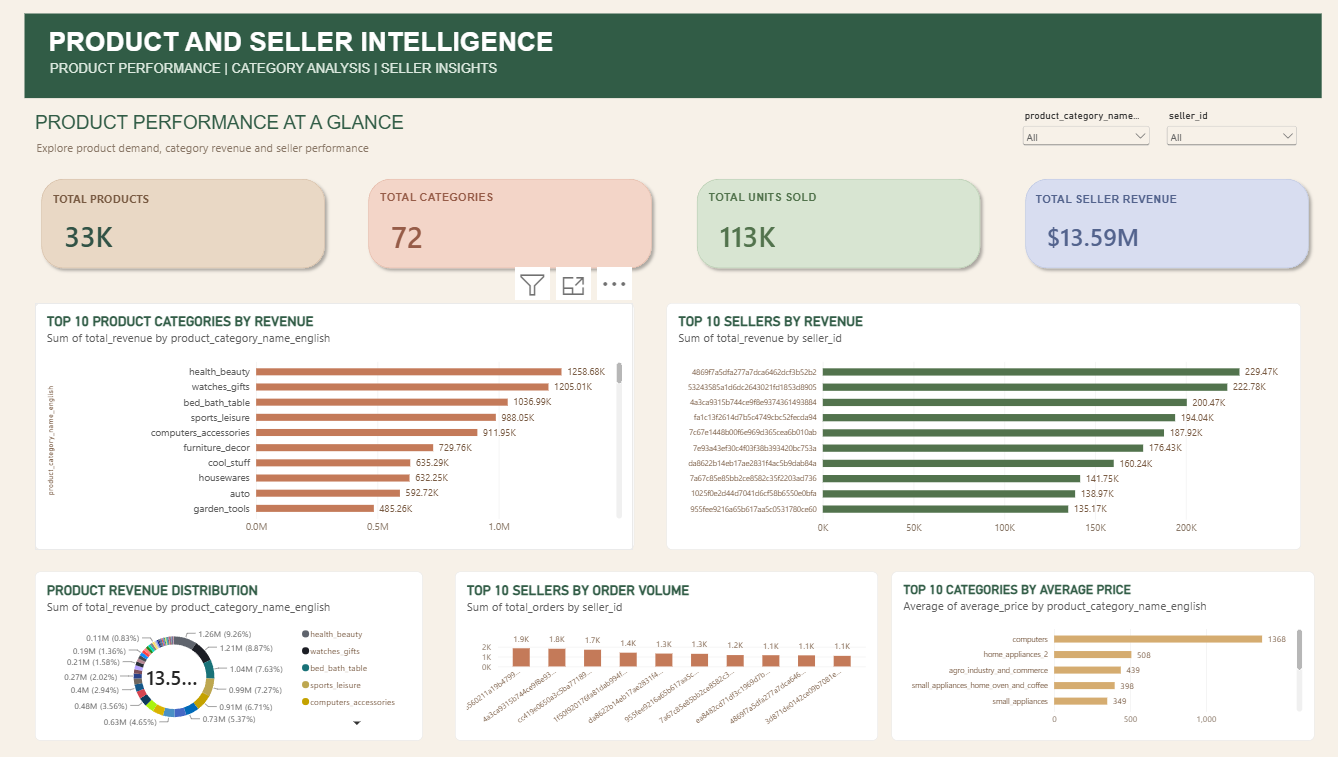

This screenshot's page, from the dashboard's own definition file:
{"tool":"powerbi","page":{"name":"PRODUCT & SELLER INTELLIGENCE","canvas":[1920,1080],"ordinal":2},"visuals":[{"type":"shape","box":[40,20,1840,120],"z":0},{"type":"textbox","box":[75,38,1100,48],"z":1000},{"type":"textbox","box":[77,88,1000,28],"z":2000},{"type":"textbox","box":[55,160,850,35],"z":3000},{"type":"textbox","box":[57,198,900,25],"z":4000},{"type":"shape","box":[55,245,420,145],"z":5000},{"type":"textbox","box":[80,270,350,25],"z":6000},{"type":"cardVisual","fields":{"Data":["gold_customer_geography.Total Products"]},"box":[80,305,350,60],"z":7000},{"type":"shape","box":[520,245,420,145],"z":8000},{"type":"textbox","box":[545,270,350,25],"z":9000},{"type":"cardVisual","fields":{"Data":["gold_product_summary.Total Categories"]},"box":[545,305,350,60],"z":10000},{"type":"shape","box":[985,245,420,145],"z":11000},{"type":"textbox","box":[1010,270,350,25],"z":12000},{"type":"cardVisual","fields":{"Data":["gold_customer_geography.Total Units Sold"]},"box":[1010,305,350,60],"z":13000},{"type":"shape","box":[1450,245,420,145],"z":14000},{"type":"textbox","box":[1474.5,271.6,344.9,25.9],"z":15000},{"type":"cardVisual","fields":{"Data":["gold_customer_geography.Total Seller Revenue"]},"box":[1475,305,350,60],"z":16000},{"type":"clusteredBarChart","title":"TOP 10 PRODUCT CATEGORIES BY REVENUE","fields":{"Category":["gold_product_summary.product_category_name_english"],"Y":["Sum(gold_product_summary.total_revenue)"]},"box":[55,430,850,350],"z":17000},{"type":"clusteredBarChart","title":"TOP 10 SELLERS BY REVENUE","fields":{"Category":["gold_seller_summary.seller_id"],"Y":["Sum(gold_seller_summary.total_revenue)"]},"box":[950,430,900,350],"z":18000},{"type":"donutChart","title":"PRODUCT REVENUE DISTRIBUTION","fields":{"Category":["gold_product_summary.product_category_name_english"],"Y":["Sum(gold_product_summary.total_revenue)"]},"box":[55,810,550,240],"z":19000},{"type":"clusteredColumnChart","title":"TOP 10 SELLERS BY ORDER VOLUME","fields":{"Category":["gold_seller_summary.seller_id"],"Y":["Sum(gold_seller_summary.total_orders)"]},"box":[650,810,600,240],"z":20000},{"type":"clusteredBarChart","title":"TOP 10 CATEGORIES BY AVERAGE PRICE","fields":{"Category":["gold_product_summary.product_category_name_english"],"Y":["Avg(gold_product_summary.average_price)"]},"box":[1270,810,600,240],"z":21000},{"type":"slicer","fields":{"Values":["gold_product_summary.product_category_name_english"]},"box":[1450,155,190,65],"z":21001},{"type":"slicer","fields":{"Values":["gold_seller_summary.seller_id"]},"box":[1655,155,195,65],"z":21002}]}

Visuals, with their boxes in screenshot pixels (x1, y1, x2, y2), scaled from the page's 1920x1080 canvas onto the 1338x757 screenshot:
shape: detection(28, 14, 1310, 98)
textbox: detection(52, 27, 819, 60)
textbox: detection(54, 62, 751, 81)
textbox: detection(38, 112, 631, 137)
textbox: detection(40, 139, 667, 156)
shape: detection(38, 172, 331, 273)
textbox: detection(56, 189, 300, 207)
cardVisual - gold_customer_geography.Total Products: detection(56, 214, 300, 256)
shape: detection(362, 172, 655, 273)
textbox: detection(380, 189, 624, 207)
cardVisual - gold_product_summary.Total Categories: detection(380, 214, 624, 256)
shape: detection(686, 172, 979, 273)
textbox: detection(704, 189, 948, 207)
cardVisual - gold_customer_geography.Total Units Sold: detection(704, 214, 948, 256)
shape: detection(1010, 172, 1303, 273)
textbox: detection(1028, 190, 1268, 209)
cardVisual - gold_customer_geography.Total Seller Revenue: detection(1028, 214, 1272, 256)
"TOP 10 PRODUCT CATEGORIES BY REVENUE" clusteredBarChart: detection(38, 301, 631, 547)
"TOP 10 SELLERS BY REVENUE" clusteredBarChart: detection(662, 301, 1289, 547)
"PRODUCT REVENUE DISTRIBUTION" donutChart: detection(38, 568, 422, 736)
"TOP 10 SELLERS BY ORDER VOLUME" clusteredColumnChart: detection(453, 568, 871, 736)
"TOP 10 CATEGORIES BY AVERAGE PRICE" clusteredBarChart: detection(885, 568, 1303, 736)
slicer - gold_product_summary.product_category_name_english: detection(1010, 109, 1143, 154)
slicer - gold_seller_summary.seller_id: detection(1153, 109, 1289, 154)
